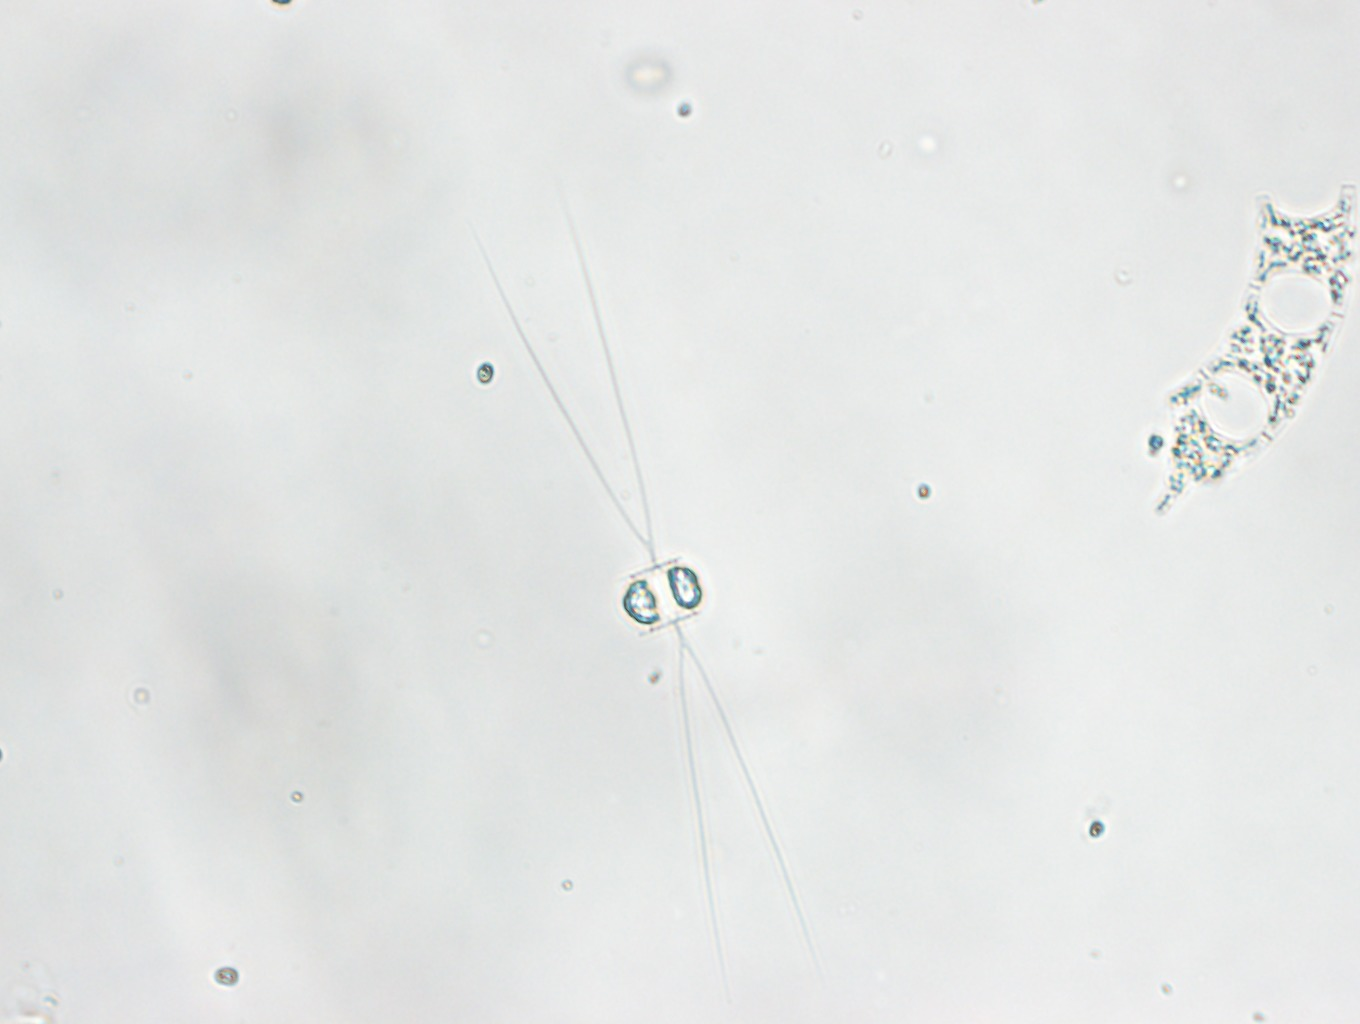chaetoceros: (457, 177, 810, 942)
eucampia: (1154, 184, 1360, 520)
